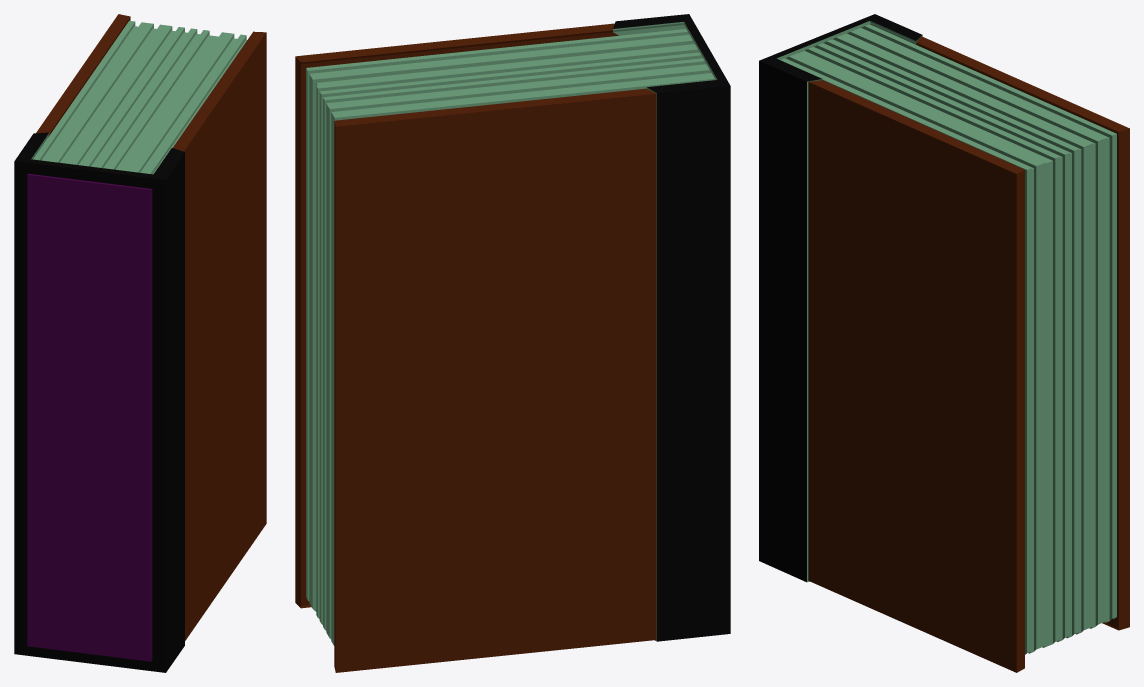
The model's file is ThirdShelfBook10.fbx.
3 renders of one model, left to right at view 1: azimuth 30°, elevation 25°; view 2: azimuth 150°, elevation 25°; view 3: azimuth 270°, elevation 25°, orthographic. The views are drawn at different scales.
Visible parts, largest first — view 1: BigBook.001; view 2: BigBook.001; view 3: BigBook.001.
Boxes of the visible parts, x1=… form: BigBook.001: x1=14, y1=14, x2=266, y2=672; BigBook.001: x1=295, y1=14, x2=730, y2=672; BigBook.001: x1=759, y1=14, x2=1129, y2=672.
Size of the model in its own units: 129 by 189 by 127.
